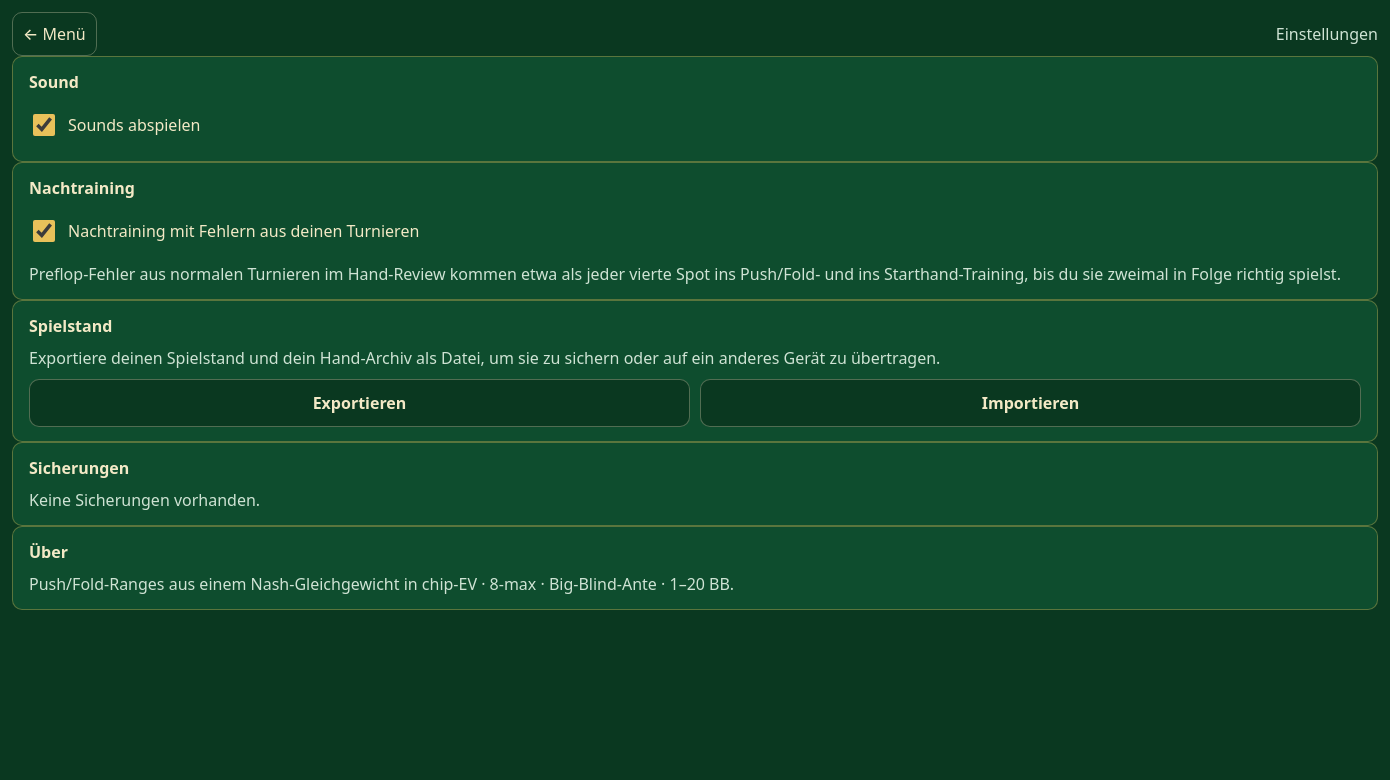
Test: SettingsScreen with the hand archive › exports the save alone while the archive is still loading
Click the button "Exportieren". click: [360, 403]
box: 29,379 -> 690,427
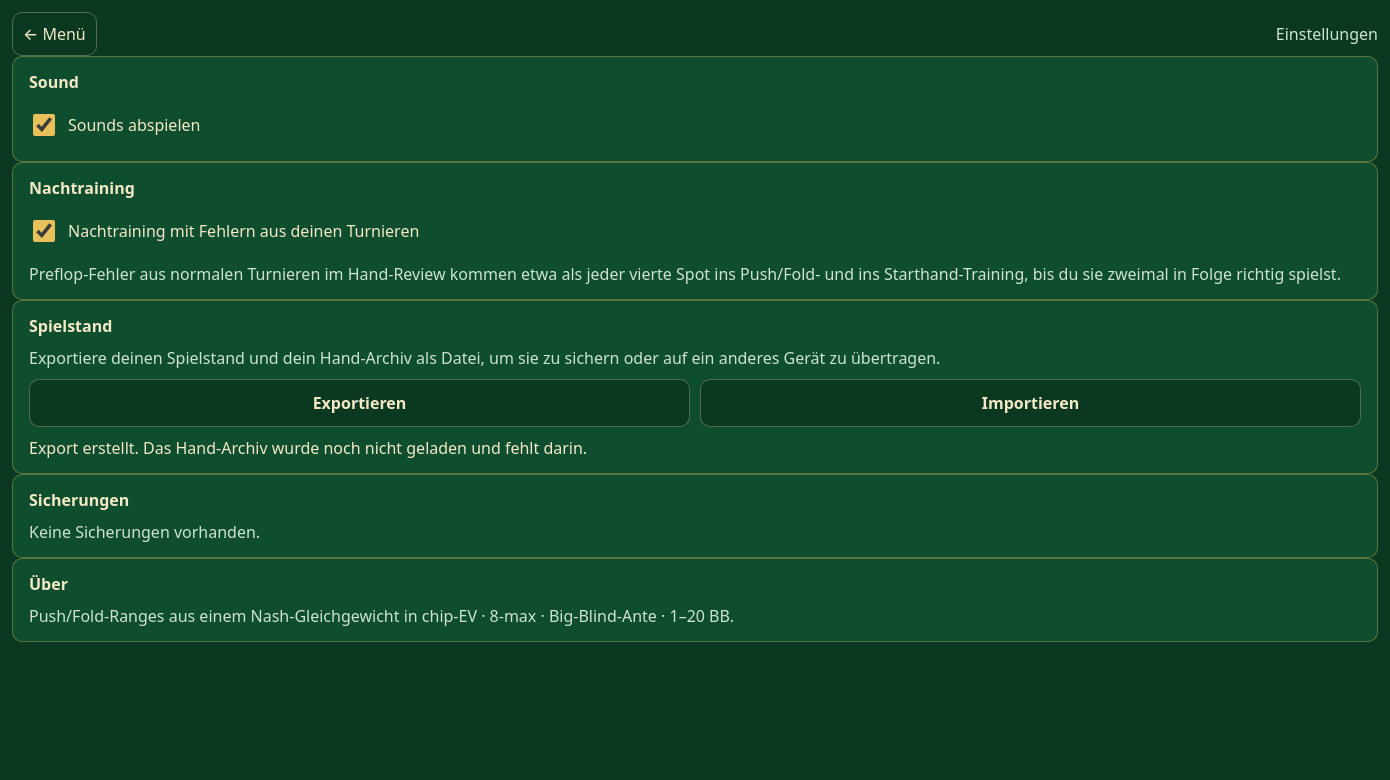
Check: the text "Export erstellt. Das Hand-Archiv wurde noch nicht geladen und fehlt darin." is shown, box 29,437 -> 587,459
